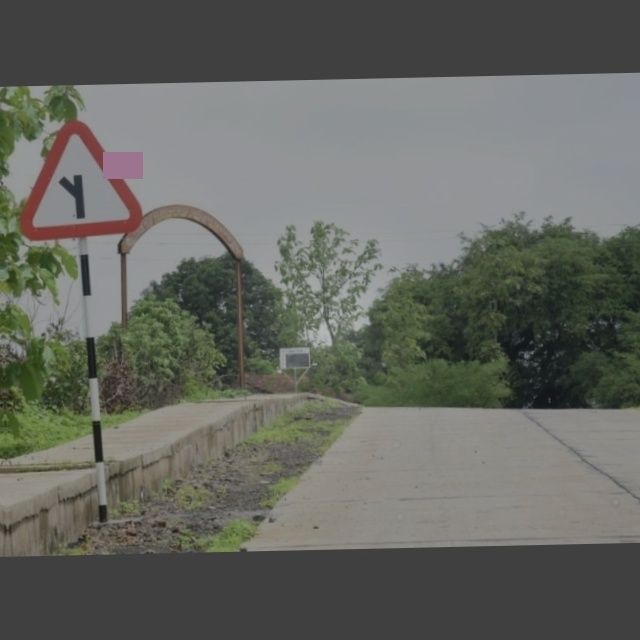Y_Intersection: (19, 117, 146, 242)
